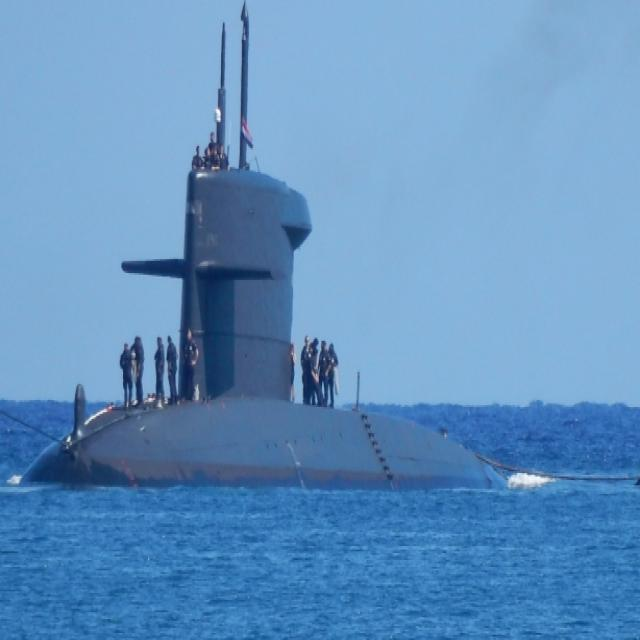submarine: (15, 1, 566, 488)
